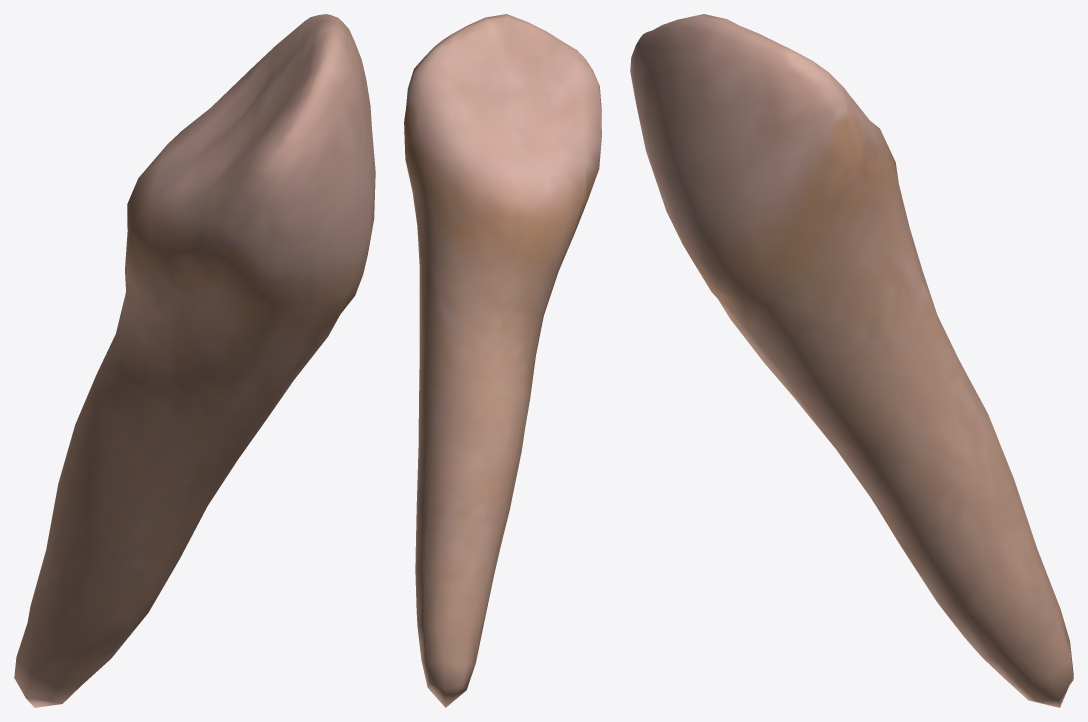
The picture shows the model from 3 angles, left to right: view 1: azimuth 30°, elevation 25°; view 2: azimuth 150°, elevation 25°; view 3: azimuth 270°, elevation 25°; orthographic projection. The views are drawn at different scales.
Visible parts, largest first — view 1: t_33; view 2: t_33; view 3: t_33.
Part boxes in pixels (x1,y1,x2,y2): t_33: [14, 14, 375, 707]; t_33: [404, 14, 601, 707]; t_33: [630, 14, 1073, 707].
Bounding box in the file's own units: 0.0592 × 0.2077 × 0.1123.
1 material, 1 textured.
